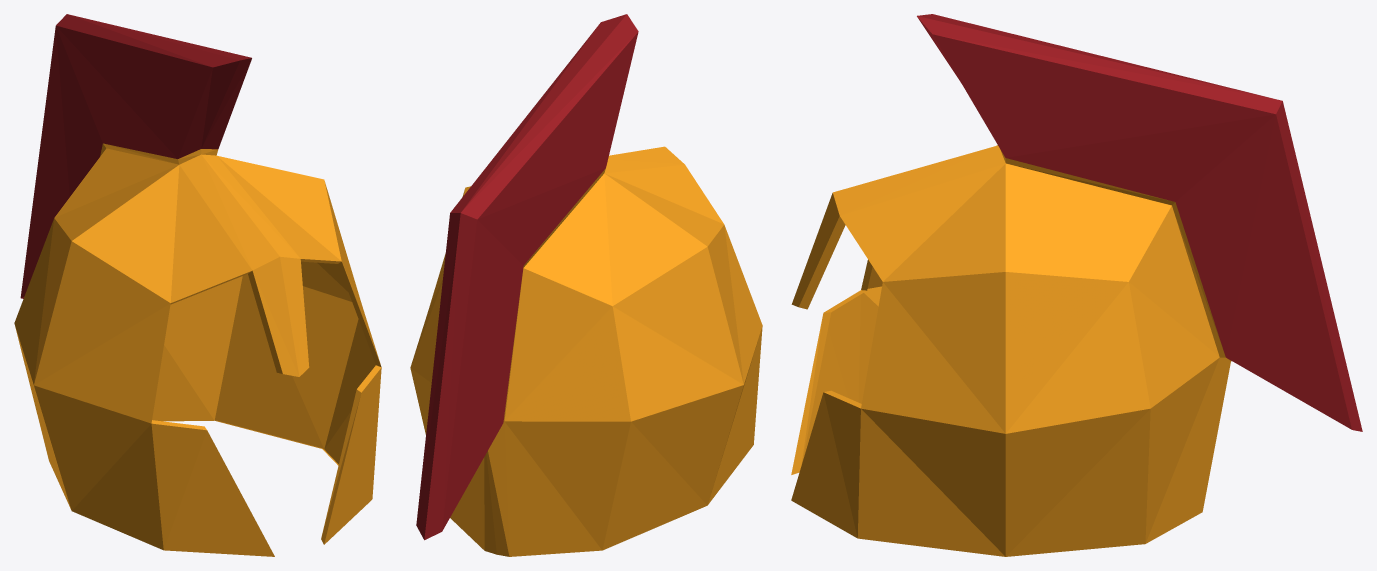
The model's file is warrior_helmet.dae.
3 views of the same model, side by side, from view 1: azimuth 30°, elevation 25°; view 2: azimuth 150°, elevation 25°; view 3: azimuth 270°, elevation 25° (orthographic). The views are drawn at different scales.
Visible parts, largest first — view 1: Cube; view 2: Cube; view 3: Cube.
Boxes of the visible parts, box(x1,y1,x2,y2) form: Cube: box(14, 14, 381, 556); Cube: box(410, 14, 762, 556); Cube: box(791, 14, 1362, 556).
Bounding box in the file's own units: 1.86 × 2.66 × 2.52.
Materials: 1 (1 with a texture image).
